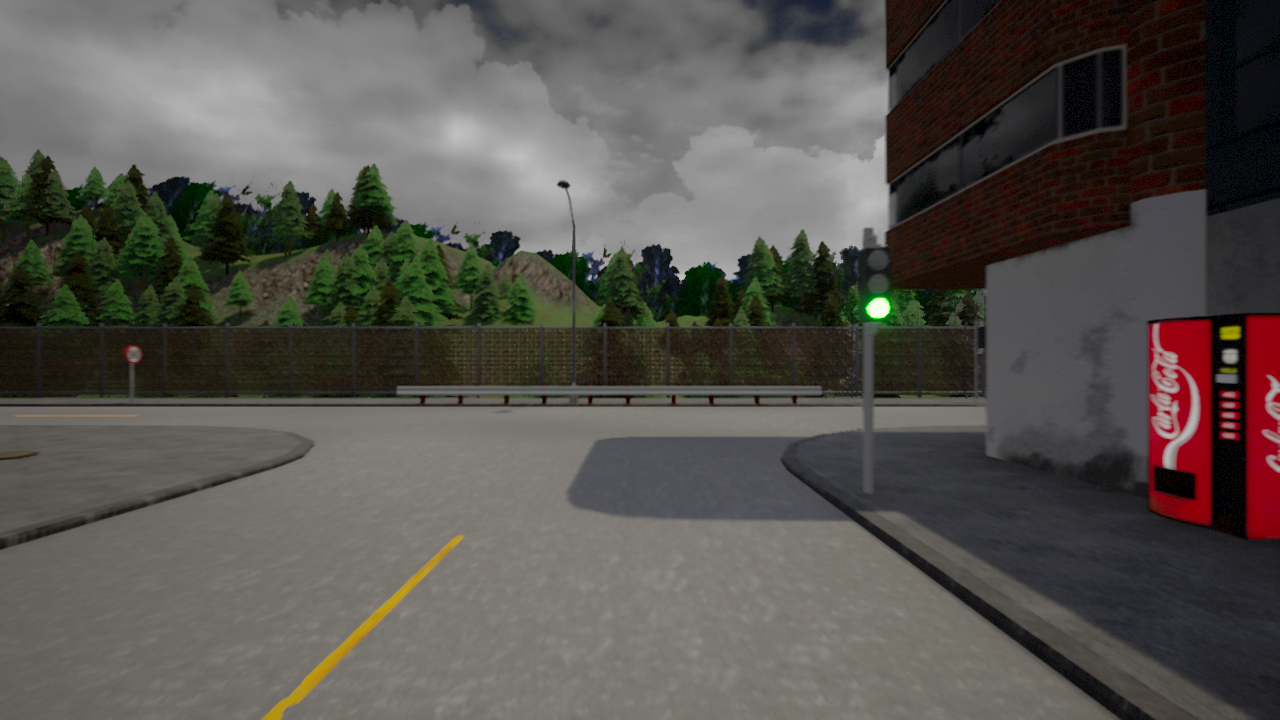green: (858, 240, 890, 327)
